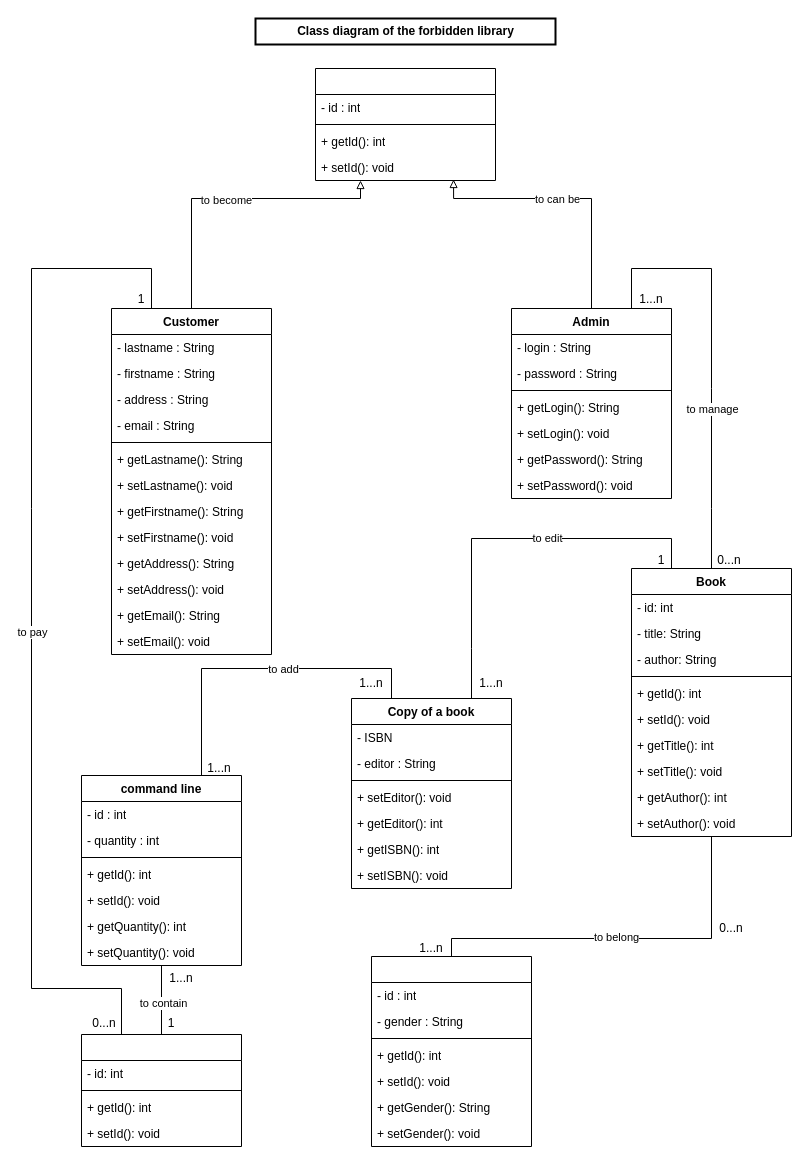
The diagram is 809 pixels wide and 1166 high, and some of its shapes have lost their labels. Here are the shapes that lost their labels. From the top down, the box of each, then its label:
(314, 68, 496, 180): User
(370, 956, 532, 1146): Category
(80, 1034, 242, 1146): Command
